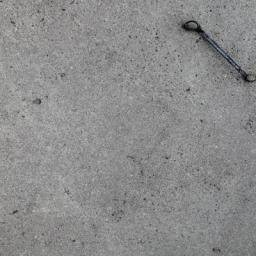FOD: (181, 19, 256, 86)
